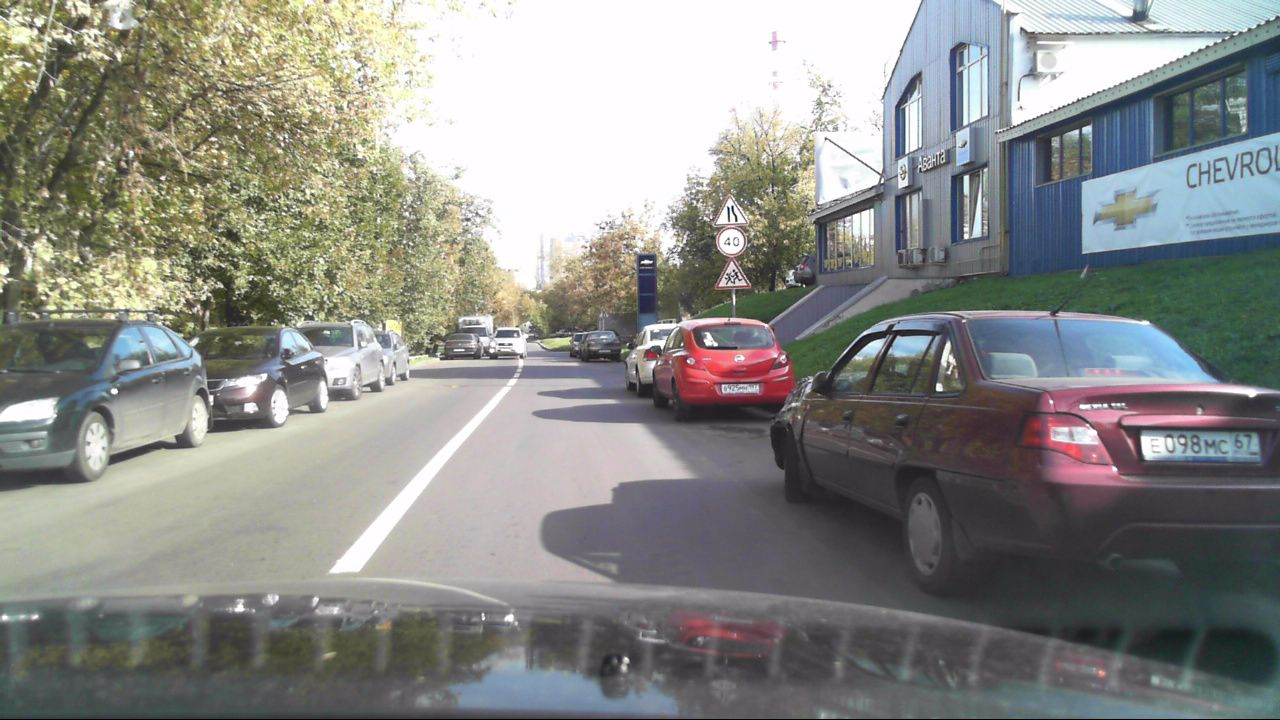speed_warning_40: (716, 223, 748, 257)
